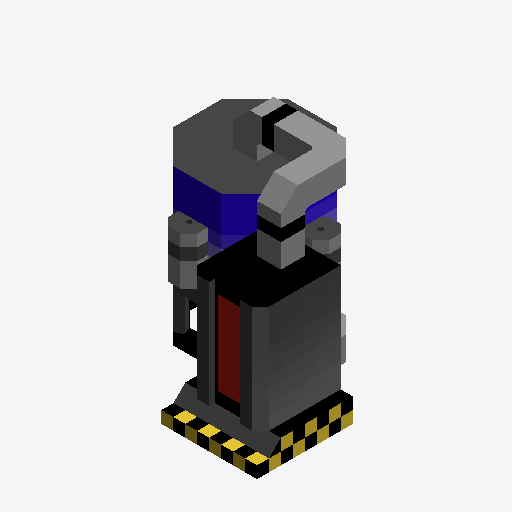
A Minecraft block model of 85 cuboids, rendered isometrically (azimuth 45°, elevation 35.3°) with the resource pack's own textures.
Visible parts, largest first — element 4, element 1, element 80, element 9, element 39, element 84, element 6, element 3, element 7, element 85, element 2, element 40 (+12 smaller).
Boxes of the visible parts, box(x1,y1,x2,y2) form: element 4: box(198, 231, 340, 430); element 1: box(161, 403, 352, 478); element 80: box(250, 97, 344, 160); element 9: box(209, 275, 255, 416); element 39: box(173, 159, 231, 258); element 84: box(257, 201, 304, 268); element 6: box(197, 271, 216, 405); element 3: box(174, 383, 280, 457); element 7: box(252, 298, 268, 430); element 85: box(274, 150, 345, 206); element 2: box(185, 376, 352, 450); element 40: box(221, 184, 265, 250).
Size of the model in its own units: 15.83 by 16.42 by 16.